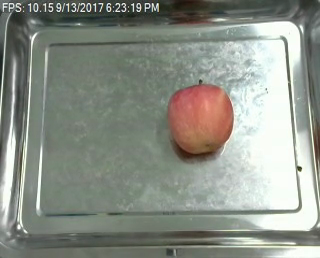Apple: (163, 81, 239, 154)
